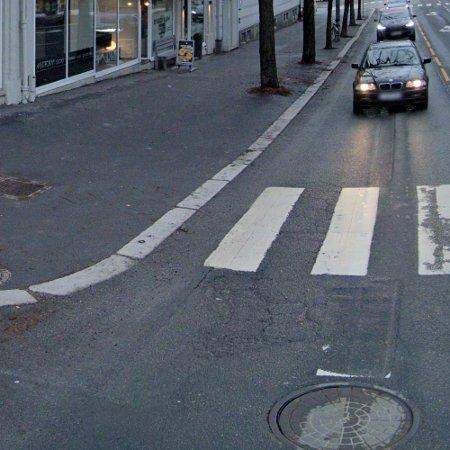crosswalks: (198, 184, 450, 278)
